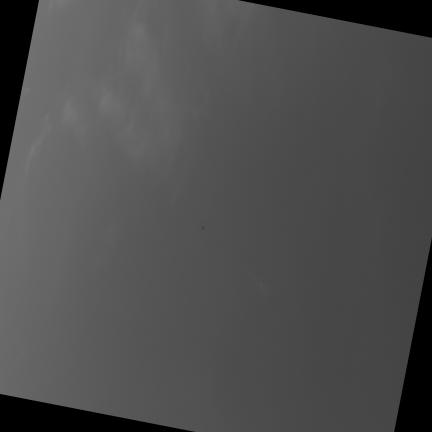Shahed: (200, 224, 204, 230)
